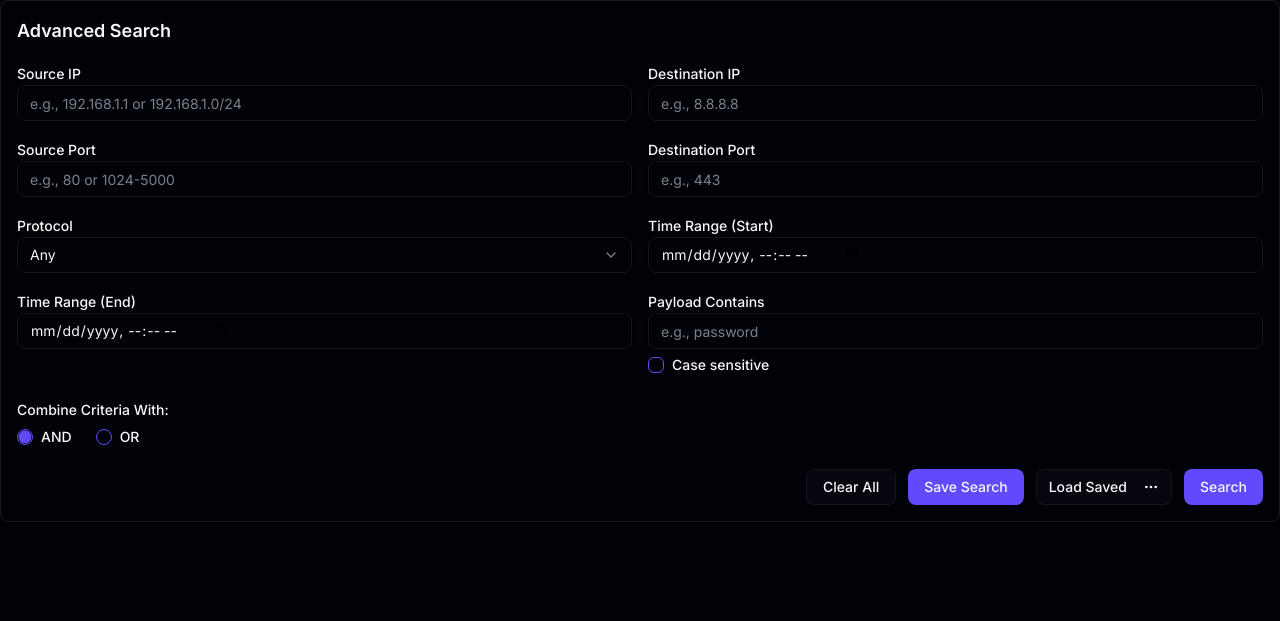
Test: AdvancedSearchPanel › loads a saved search
Note: Open Load Saved dropdown
Click the button "Load Saved": (1104, 487) x1=1036 y1=469 x2=1172 y2=505
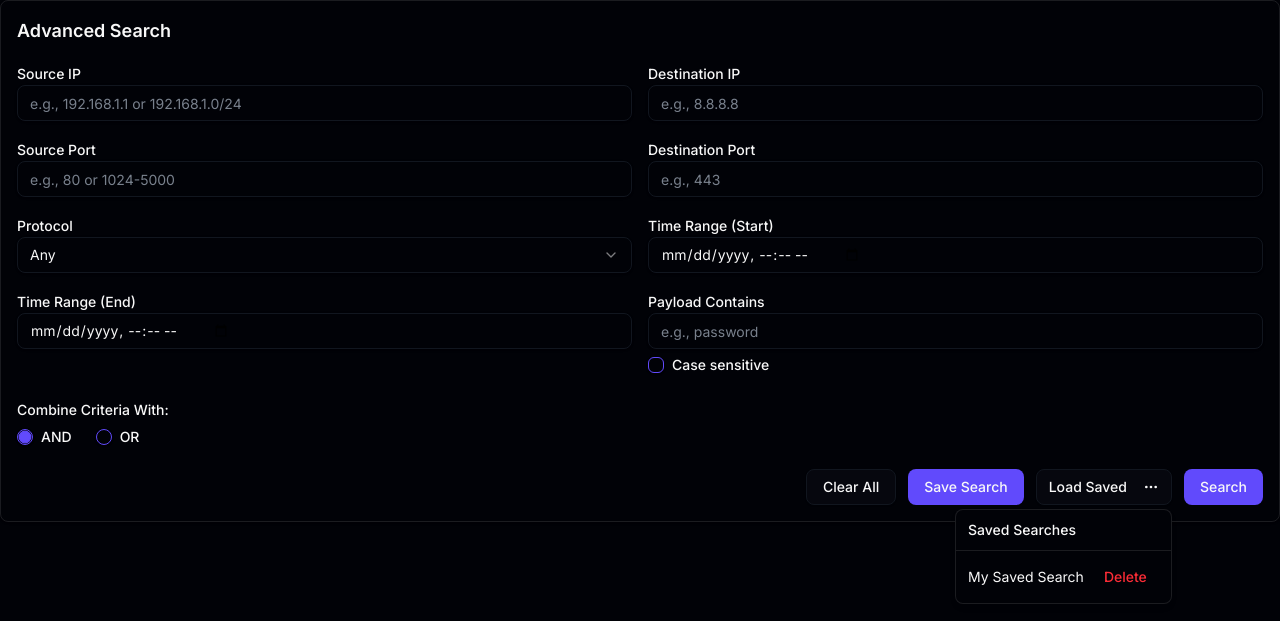
Note: Click the saved search item
Click the text "My Saved Search": (1026, 577) x1=968 y1=567 x2=1084 y2=587
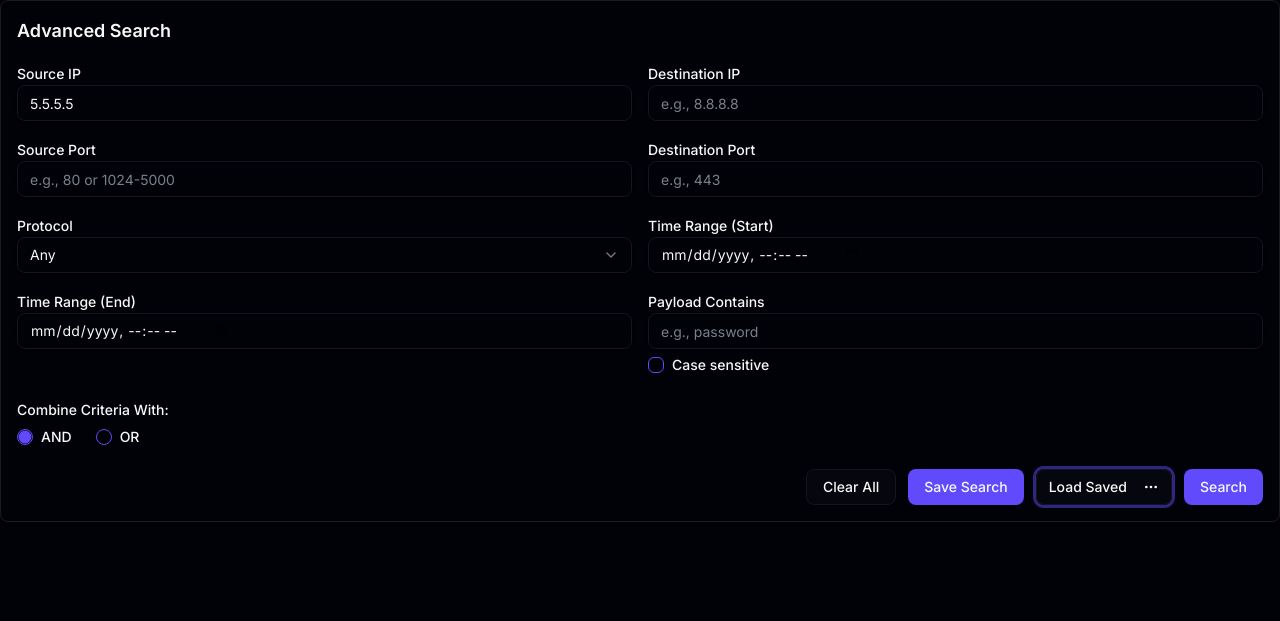
Expected: the field labelled "Source IP" holds "5.5.5.5", x1=17 y1=85 x2=632 y2=121
